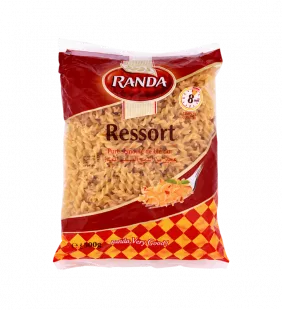RANDA: (44, 28, 236, 283)
